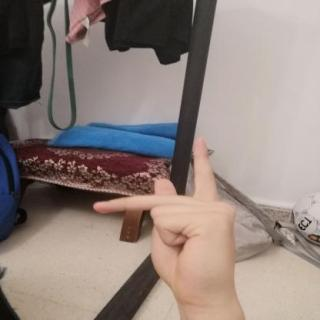DHAA: (82, 129, 250, 304)
